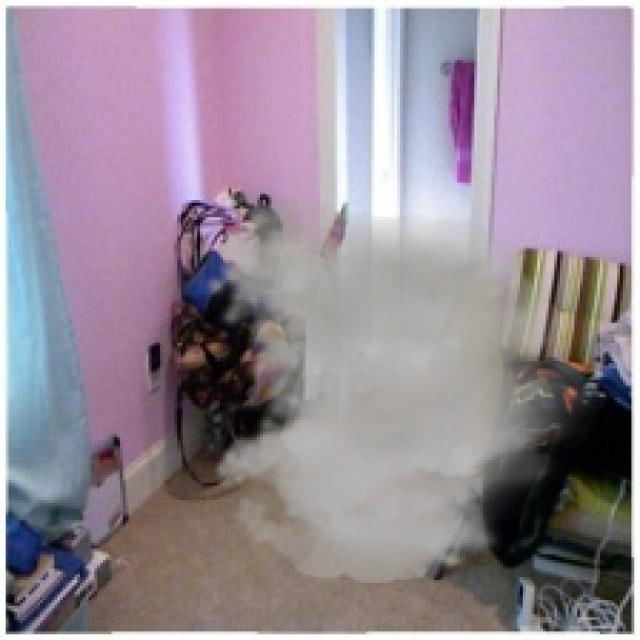smoke: (203, 197, 608, 583)
